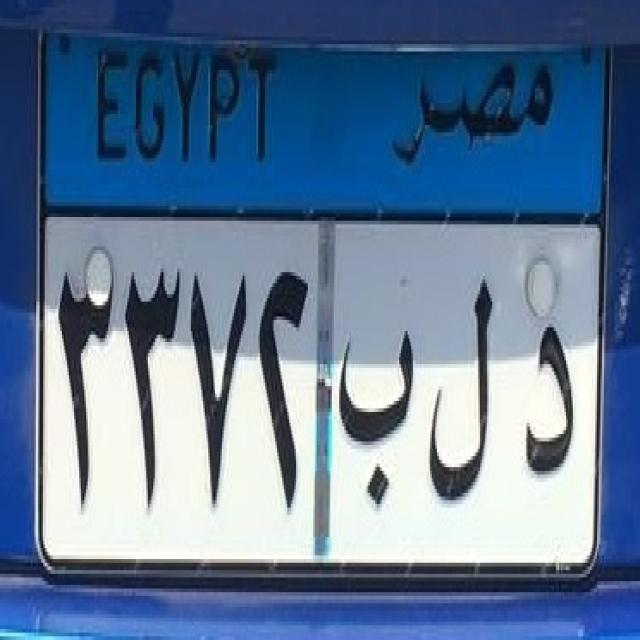2: (243, 257, 314, 528)
3: (46, 245, 122, 522), (115, 265, 185, 525)
7: (174, 278, 250, 514)
Laam: (418, 262, 499, 530)
baa: (330, 287, 420, 522)
daal: (508, 264, 582, 500)
